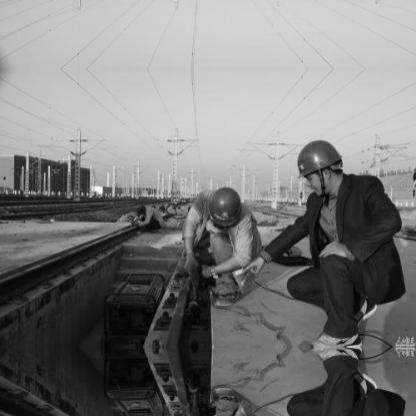helmet: (291, 138, 344, 197), (201, 185, 244, 235)
